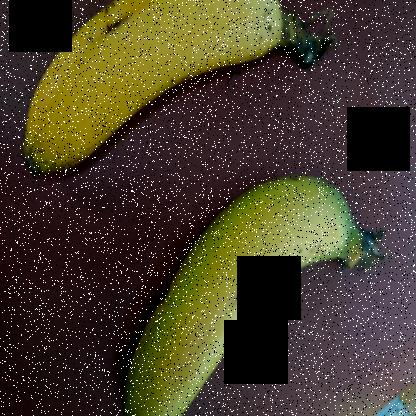freshripe: (121, 163, 370, 415), (18, 1, 326, 180)
